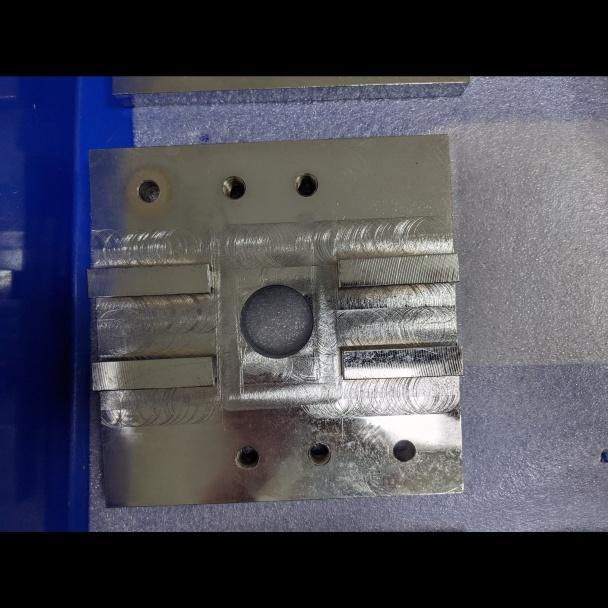hole: (387, 430, 421, 471), (133, 174, 166, 210), (231, 439, 262, 476), (216, 171, 251, 203), (289, 165, 320, 200), (303, 435, 334, 470)
